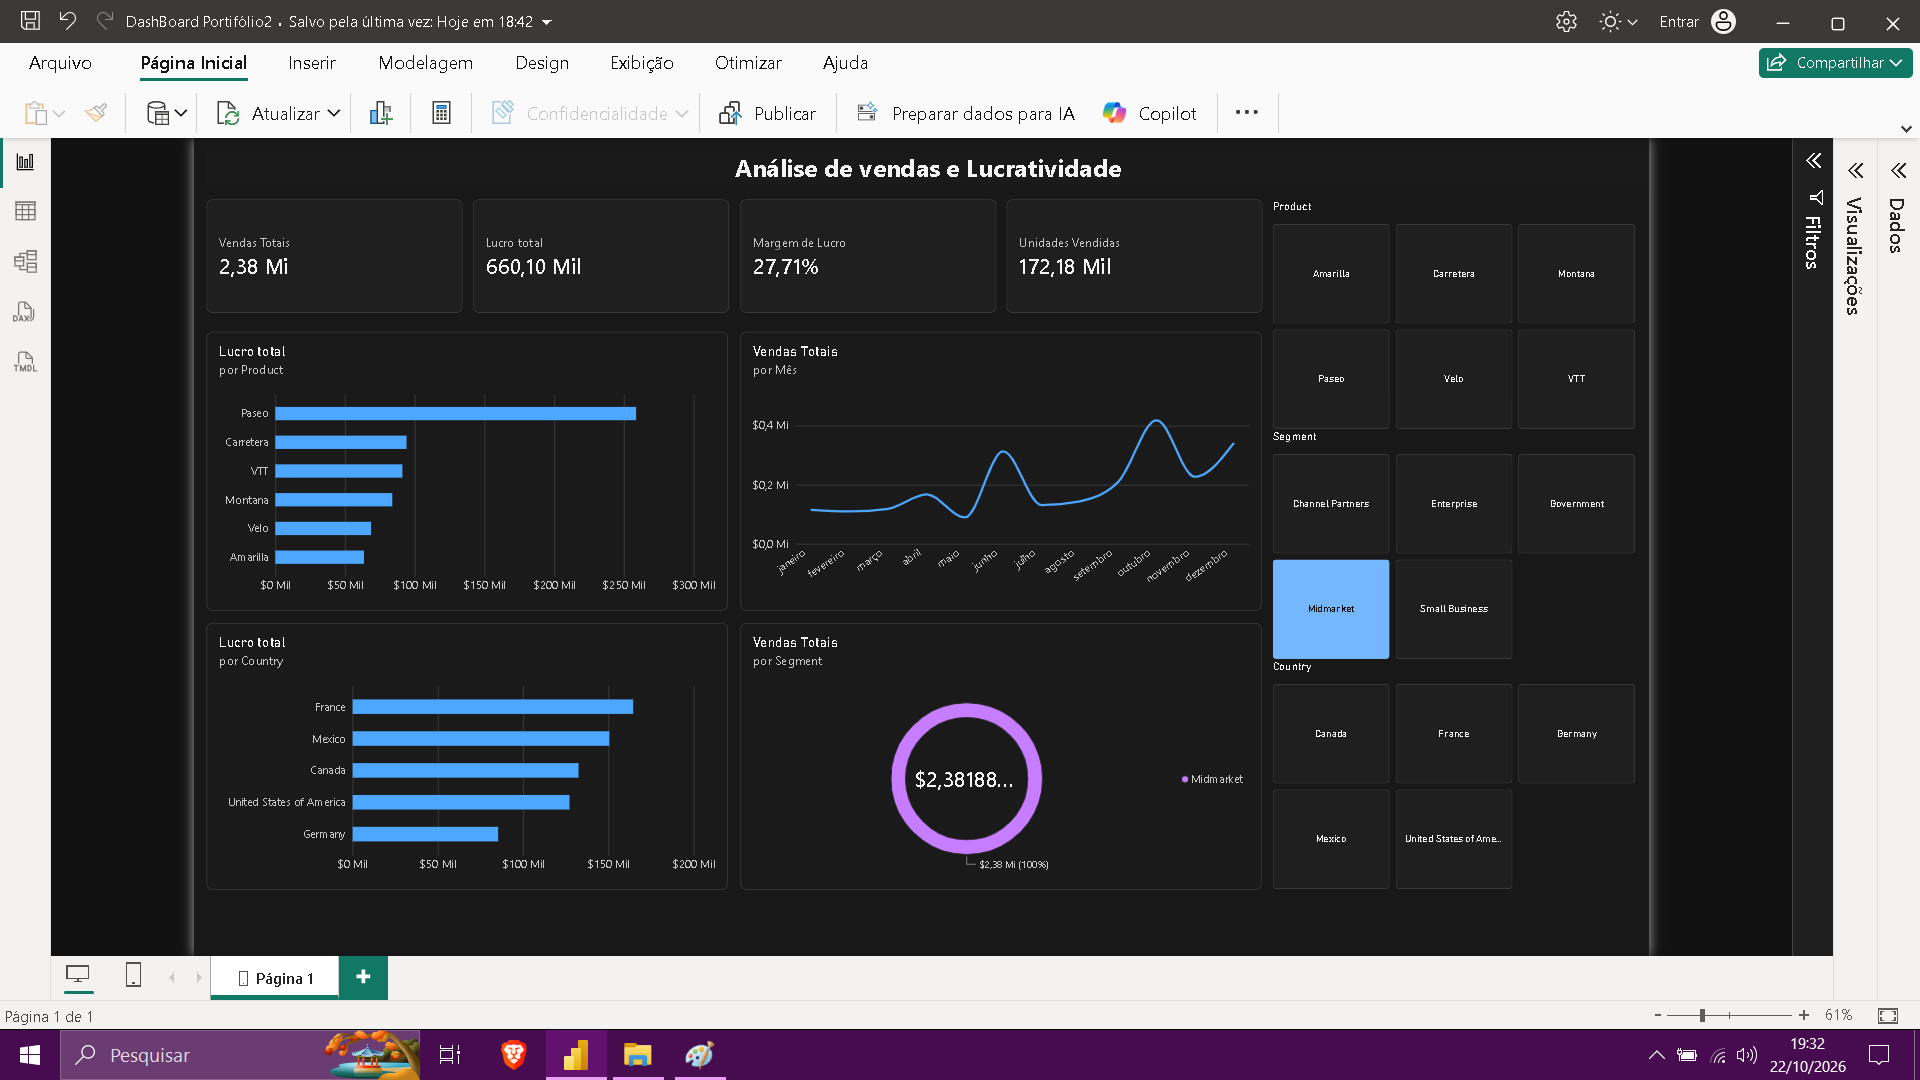

Layout of this report page (visuals, bound fields, positions):
{"tool":"powerbi","page":{"name":"Página 1","canvas":[1920,1080],"ordinal":0},"visuals":[{"type":"textbox","box":[16,16,1904,48],"z":0},{"type":"cardVisual","fields":{"Data":["financials.Vendas Totais"]},"box":[16,80,338.5,150.3],"z":1000},{"type":"cardVisual","fields":{"Data":["financials.Lucro total"]},"box":[368,80,338.5,150.3],"z":2000},{"type":"cardVisual","fields":{"Data":["financials.Margem de Lucro"]},"box":[720,80,338.5,150.3],"z":3000},{"type":"cardVisual","fields":{"Data":["financials.Unidades Vendidas"]},"box":[1072,80,338.5,150.3],"z":4000},{"type":"lineChart","fields":{"Category":["financials.Date.Variação.Hierarquia de datas.Ano","financials.Date.Variação.Hierarquia de datas.Trimestre","financials.Date.Variação.Hierarquia de datas.Mês","financials.Date.Variação.Hierarquia de datas.Dia"],"Y":["financials.Vendas Totais"]},"box":[720,256,688,368],"z":5000},{"type":"clusteredBarChart","fields":{"Category":["financials.Product"],"Y":["financials.Lucro total"]},"box":[16,256,688,368],"z":6000},{"type":"donutChart","fields":{"Category":["financials.Segment"],"Y":["financials.Vendas Totais"]},"box":[720,640,688,352],"z":7000},{"type":"clusteredBarChart","fields":{"Category":["financials.Country"],"Y":["financials.Lucro total"]},"box":[16,640,688,352],"z":8000},{"type":"advancedSlicerVisual","fields":{"Values":["financials.Country"]},"box":[1424,688,480,304],"z":9000},{"type":"advancedSlicerVisual","fields":{"Values":["financials.Segment"]},"box":[1424,384,480,304],"z":10000},{"type":"advancedSlicerVisual","fields":{"Values":["financials.Product"]},"box":[1424,80,480,304],"z":11000}]}

Visuals, with their boxes on the page's 1920x1080 design canvas (x1, y1, x2, y2). These are canvas units, not pixel positions in the 1920x1080 screenshot, which may show the page scaled, cropped or inside an application window:
textbox: Rect(16, 16, 1920, 64)
cardVisual - financials.Vendas Totais: Rect(16, 80, 354, 230)
cardVisual - financials.Lucro total: Rect(368, 80, 706, 230)
cardVisual - financials.Margem de Lucro: Rect(720, 80, 1058, 230)
cardVisual - financials.Unidades Vendidas: Rect(1072, 80, 1410, 230)
lineChart - financials.Date.Variação.Hierarquia de datas.Ano x financials.Date.Variação.Hierarquia de datas.Trimestre: Rect(720, 256, 1408, 624)
clusteredBarChart - financials.Product x financials.Lucro total: Rect(16, 256, 704, 624)
donutChart - financials.Segment x financials.Vendas Totais: Rect(720, 640, 1408, 992)
clusteredBarChart - financials.Country x financials.Lucro total: Rect(16, 640, 704, 992)
advancedSlicerVisual - financials.Country: Rect(1424, 688, 1904, 992)
advancedSlicerVisual - financials.Segment: Rect(1424, 384, 1904, 688)
advancedSlicerVisual - financials.Product: Rect(1424, 80, 1904, 384)
